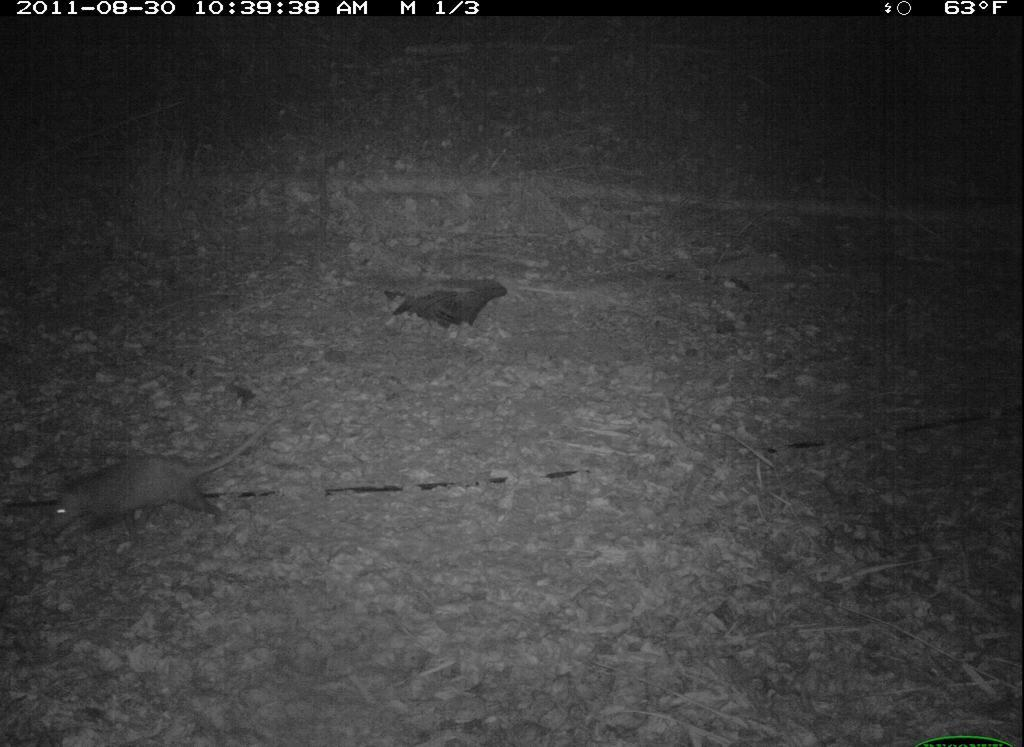opossum: (47, 424, 299, 538)
